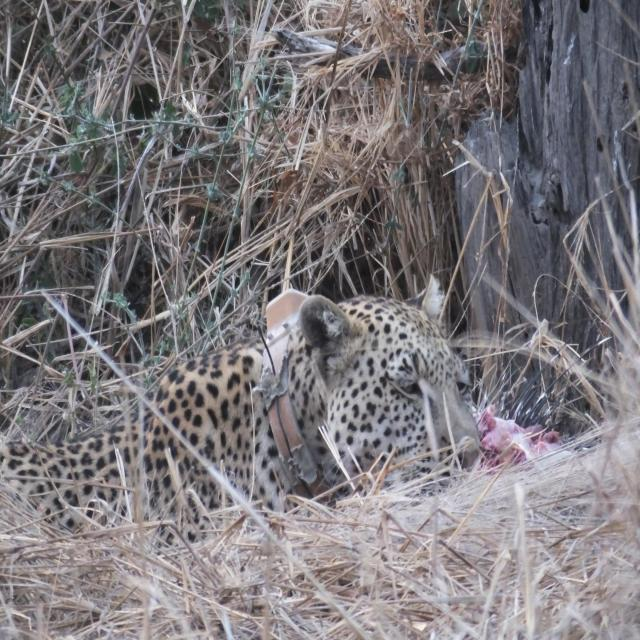Leopard: (0, 275, 511, 534)
